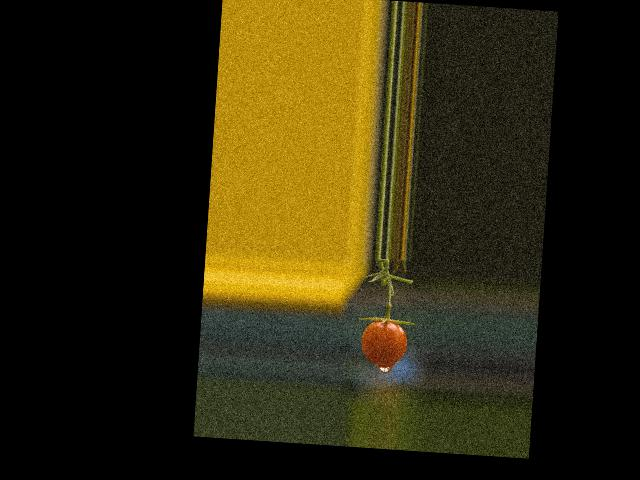tomato: (360, 319, 409, 367)
